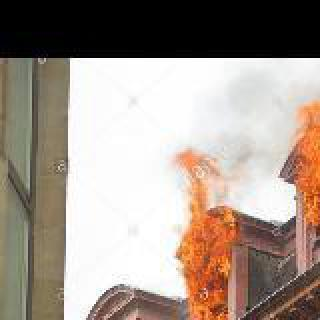fire: (156, 120, 254, 320), (280, 100, 320, 238)
